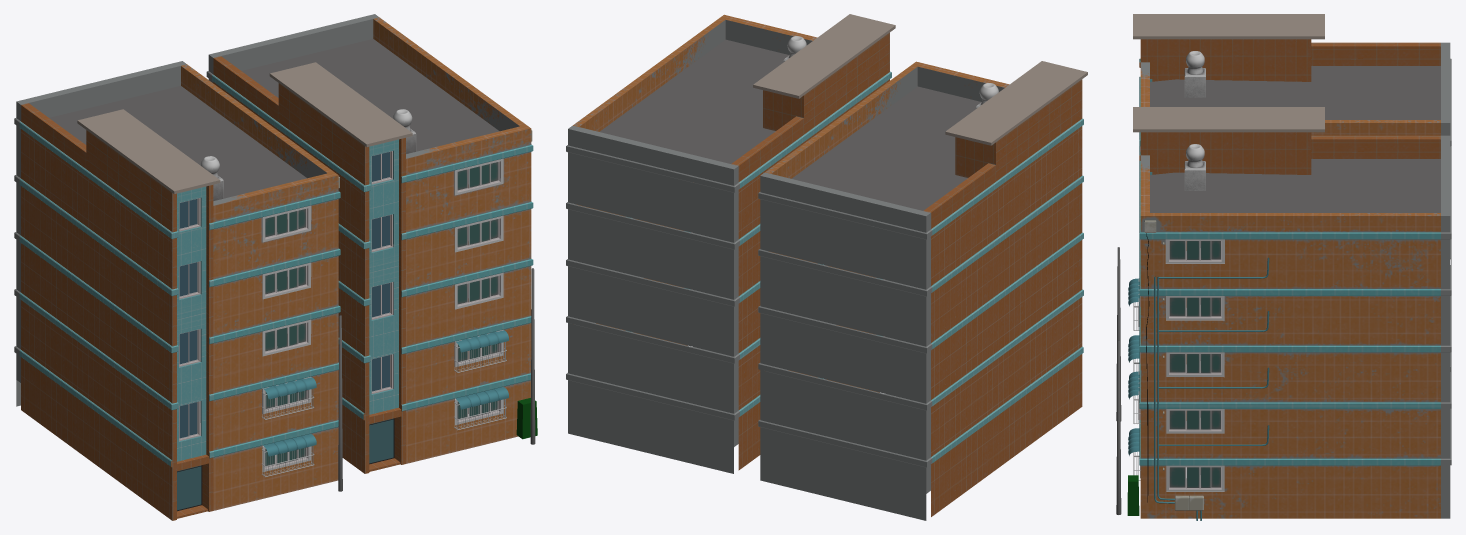
File: stage2_building2(no mat).fbx
The picture shows the model from 3 angles, left to right: view 1: azimuth 30°, elevation 25°; view 2: azimuth 150°, elevation 25°; view 3: azimuth 270°, elevation 25°; orthographic projection.
Parts seen in each view (by area): view 1: Cube.141, Cube.153, Cube.252, Cube.002, Cube.007, Cube.152, Cube.144, Cube.020, Cube.151, Cube.142, Cube.016, Cube.008 (+27 smaller); view 2: Cube.151, Cube.008, Cube.141, Cube.002, Cube.152, Cube.007, Cube.153, Cube.252, Cube.016, Cube.142; view 3: Cube.252, Cube.007, Cube.152, Cube.002, Cube.141, Cube.016, Cube.142, Cube.008, Cube.153, Cube.140, Cube.117, Cube.019 (+10 smaller).
Part boxes in pixels (x1=…): Cube.141: x1=19, y1=103, x2=213, y2=520; Cube.153: x1=181, y1=64, x2=340, y2=510; Cube.252: x1=373, y1=17, x2=533, y2=463; Cube.002: x1=212, y1=56, x2=406, y2=473; Cube.007: x1=242, y1=39, x2=499, y2=151; Cube.152: x1=49, y1=85, x2=306, y2=198; Cube.144: x1=177, y1=186, x2=206, y2=461; Cube.020: x1=369, y1=139, x2=398, y2=414; Cube.151: x1=14, y1=61, x2=186, y2=406; Cube.142: x1=77, y1=109, x2=220, y2=194; Cube.016: x1=269, y1=62, x2=412, y2=147; Cube.008: x1=206, y1=14, x2=379, y2=82; Cube.151: x1=758, y1=172, x2=932, y2=520; Cube.008: x1=566, y1=125, x2=739, y2=473; Cube.141: x1=923, y1=79, x2=1083, y2=516; Cube.002: x1=731, y1=32, x2=891, y2=470; Cube.152: x1=791, y1=86, x2=981, y2=210; Cube.007: x1=599, y1=39, x2=789, y2=163; Cube.153: x1=765, y1=61, x2=1009, y2=392; Cube.252: x1=573, y1=14, x2=817, y2=345; Cube.016: x1=753, y1=14, x2=895, y2=98; Cube.142: x1=945, y1=61, x2=1087, y2=145; Cube.252: x1=1139, y1=155, x2=1440, y2=518; Cube.007: x1=1150, y1=159, x2=1440, y2=212; Cube.152: x1=1150, y1=66, x2=1440, y2=119; Cube.002: x1=1139, y1=132, x2=1440, y2=420; Cube.141: x1=1139, y1=39, x2=1440, y2=81; Cube.016: x1=1133, y1=107, x2=1324, y2=132; Cube.142: x1=1133, y1=14, x2=1324, y2=39; Cube.008: x1=1441, y1=135, x2=1451, y2=518; Cube.153: x1=1139, y1=62, x2=1440, y2=169; Cube.140: x1=1166, y1=465, x2=1224, y2=491; Cube.117: x1=1165, y1=239, x2=1224, y2=263; Cube.019: x1=1166, y1=296, x2=1224, y2=320.
Bounding box in the file's own units: 4807 × 4209 × 3860.
